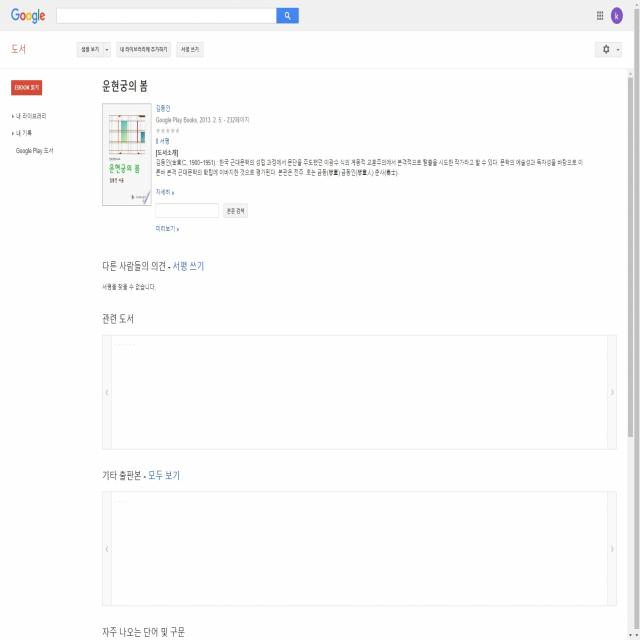menu-bar: (594, 4, 625, 27)
menu-panel: (74, 37, 205, 59)
search: (54, 4, 300, 26), (155, 198, 249, 221)
side-panel: (8, 106, 58, 166)
